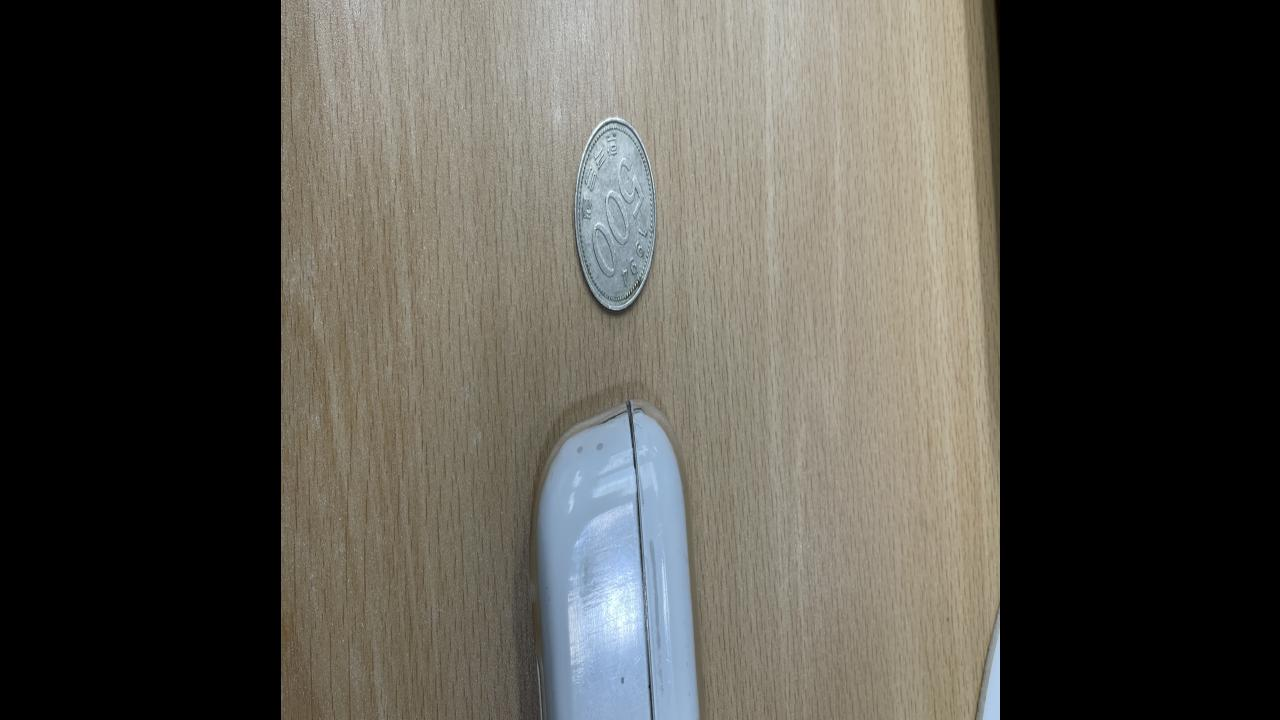coin: (572, 114, 657, 314)
